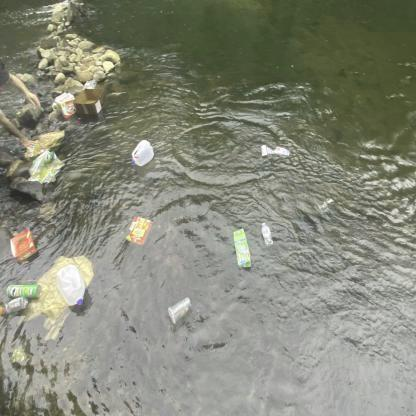Metal: (6, 280, 42, 300)
Plastic: (56, 262, 88, 308), (166, 294, 194, 327), (130, 138, 156, 167), (0, 295, 30, 320), (258, 145, 292, 158), (260, 221, 274, 248), (82, 76, 99, 94)
Trash: (24, 130, 67, 158)
